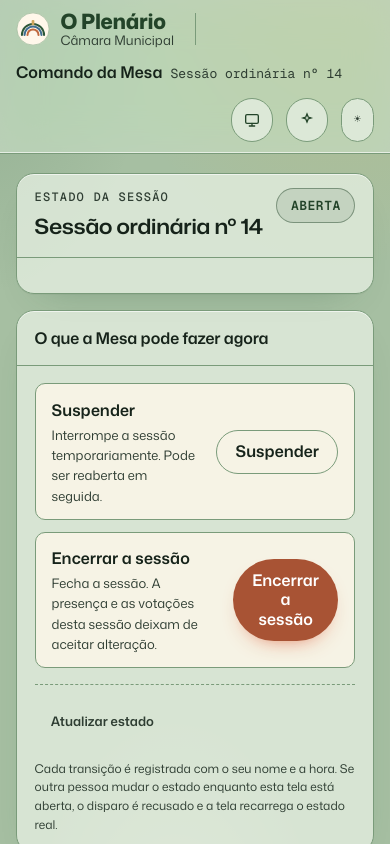
Comando da Mesa — a Clara (ADR-0024, fatia 5) › a entrada do cabeçalho abre a Clara e diz que ela está aberta
Click the button with class "clara-no-topo".
click(307, 120)  # box [286, 98, 328, 142]
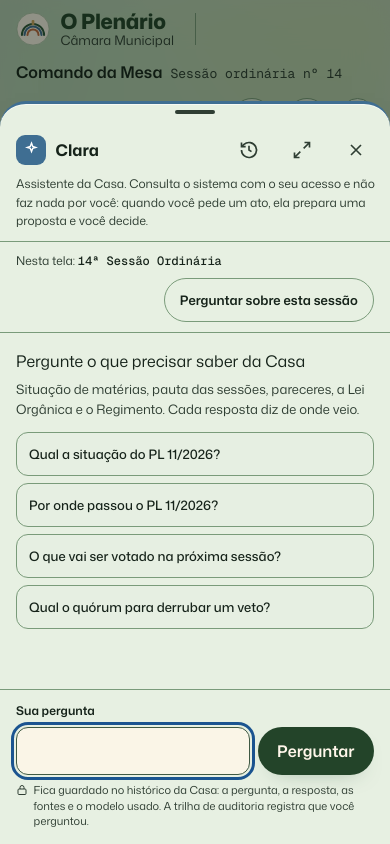
Expected: the button with class "clara-no-topo" is expanded, [286, 98, 328, 142]
